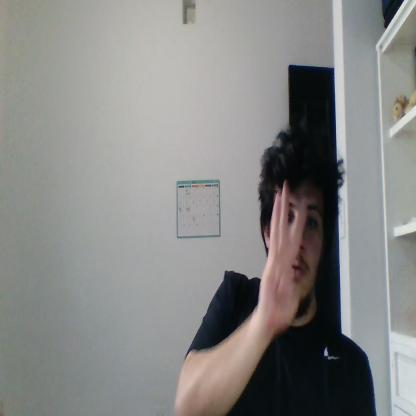W: (258, 180, 305, 328)
